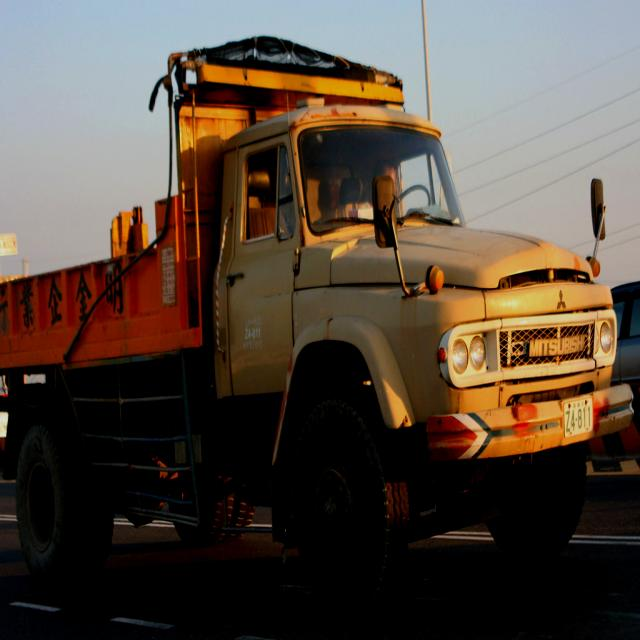truck: (1, 33, 637, 610)
